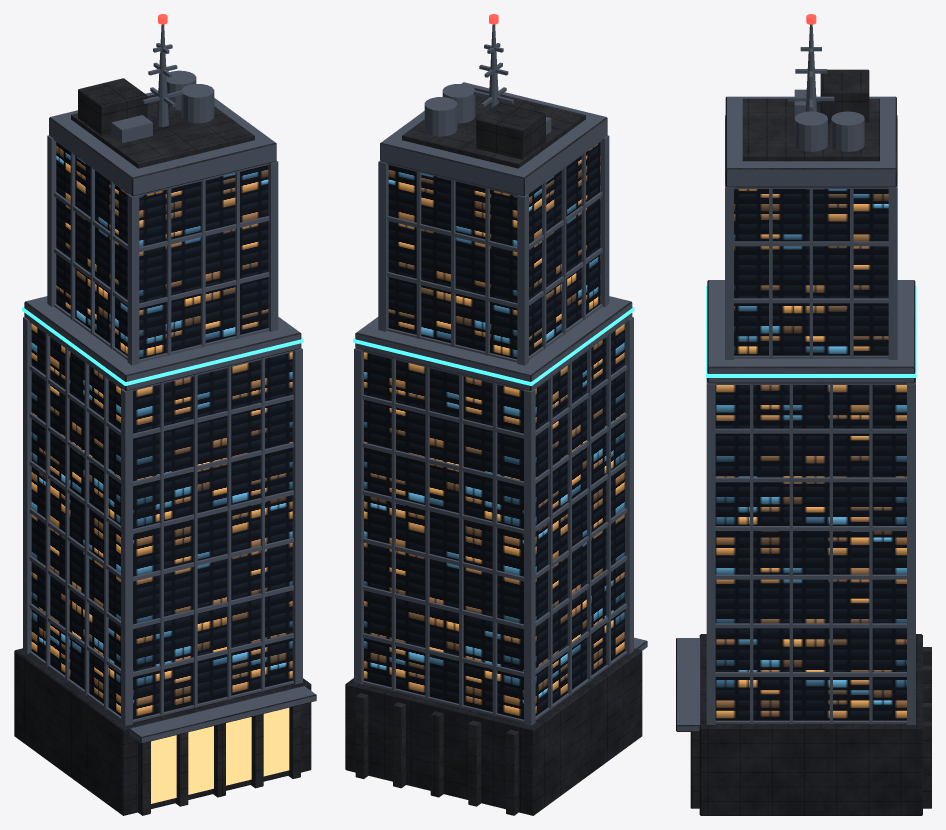
File: tower_glass_hq.glb
3 renders of one model, left to right at view 1: azimuth 30°, elevation 25°; view 2: azimuth 150°, elevation 25°; view 3: azimuth 270°, elevation 25°, orthographic. The views are drawn at different scales.
Visible parts, largest first — view 1: TowerGlassHQ; view 2: TowerGlassHQ; view 3: TowerGlassHQ.
Boxes of the visible parts, x1,y1,x2,y2 form: TowerGlassHQ: [14, 14, 316, 815]; TowerGlassHQ: [345, 14, 647, 815]; TowerGlassHQ: [676, 14, 931, 815].
Size of the model in its own units: 14.6 by 54.39 by 16.74.
7 materials, 3 textured.
